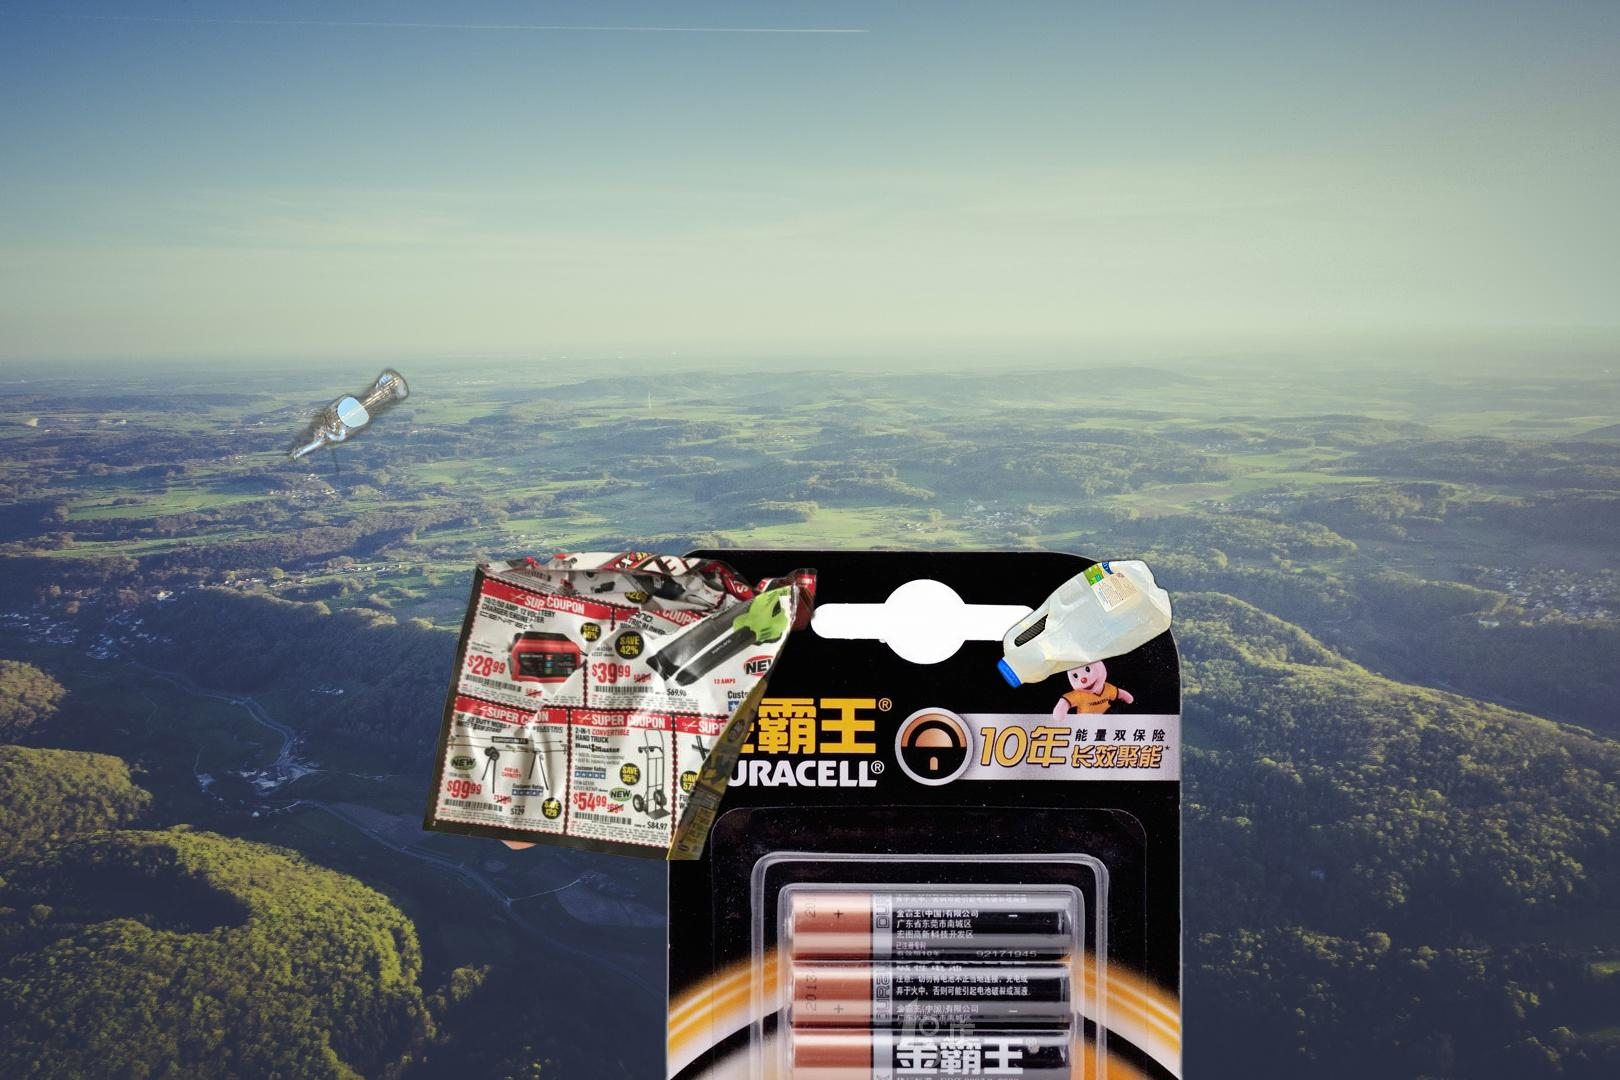battery: (657, 539, 1193, 1080)
clothes: (1379, 1035, 1620, 1080)
glass: (280, 363, 413, 482)
paper: (416, 548, 824, 859)
penholder: (1598, 86, 1620, 937)
plastic-bottles: (993, 553, 1176, 695)
shoes: (487, 675, 681, 859)
